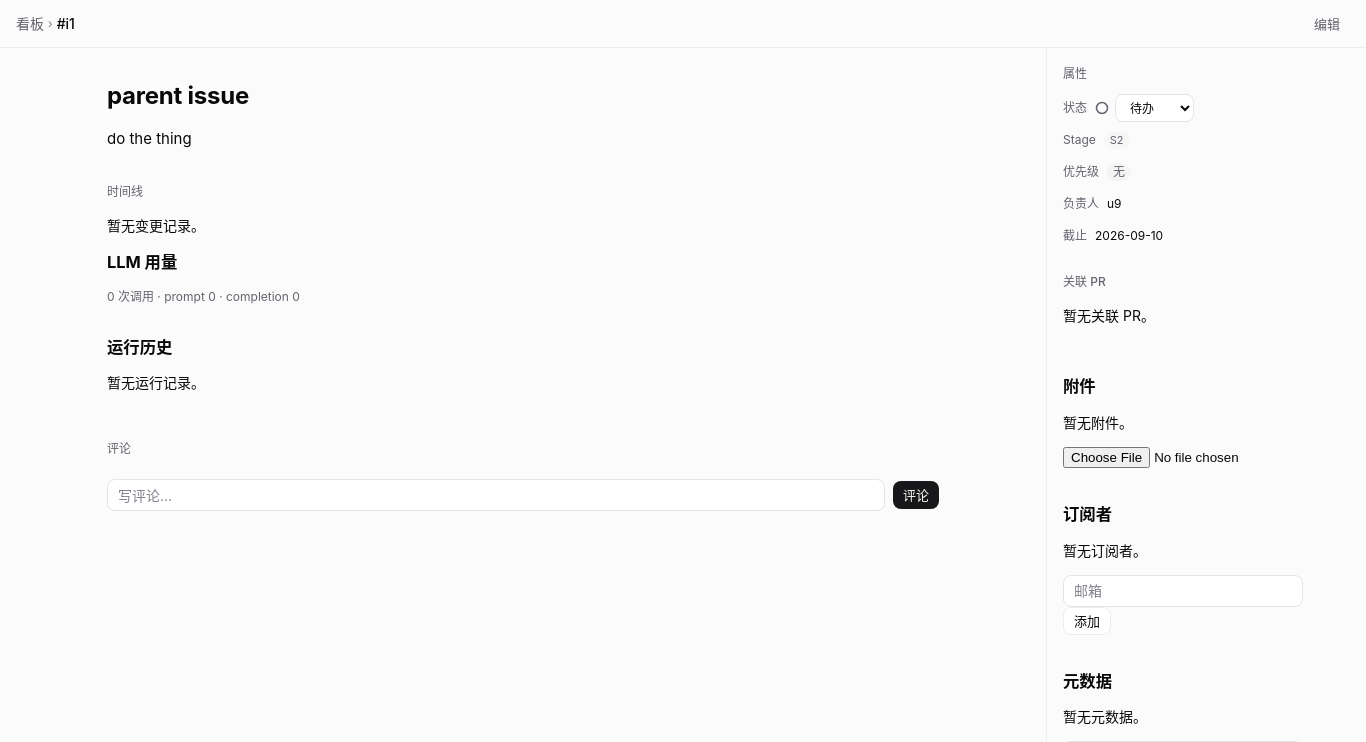
Test: IssueDetailPage › edits the issue description
Click the button with test id "edit-issue" at (1327, 24), box [1304,10,1350,38]
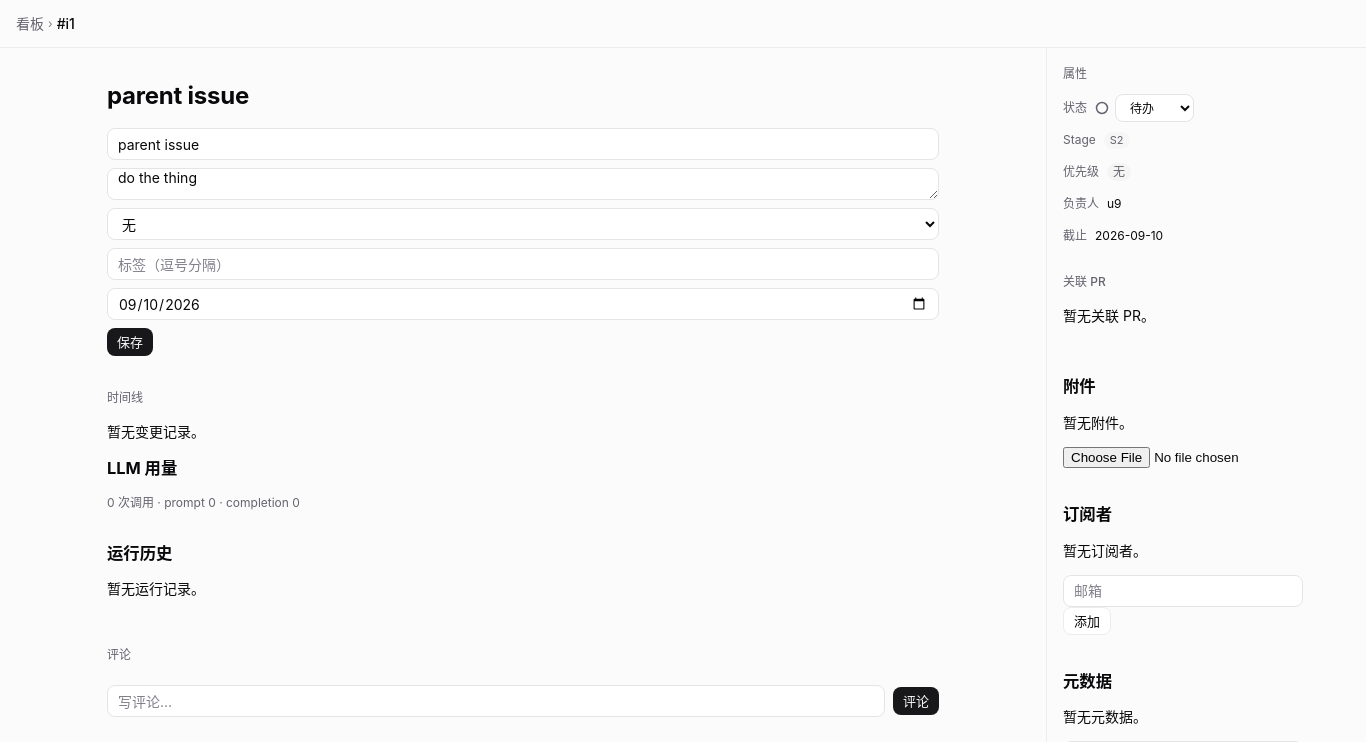
Type " appended" into the text box with test id "edit-description" at (523, 184), box [107,168,939,200]
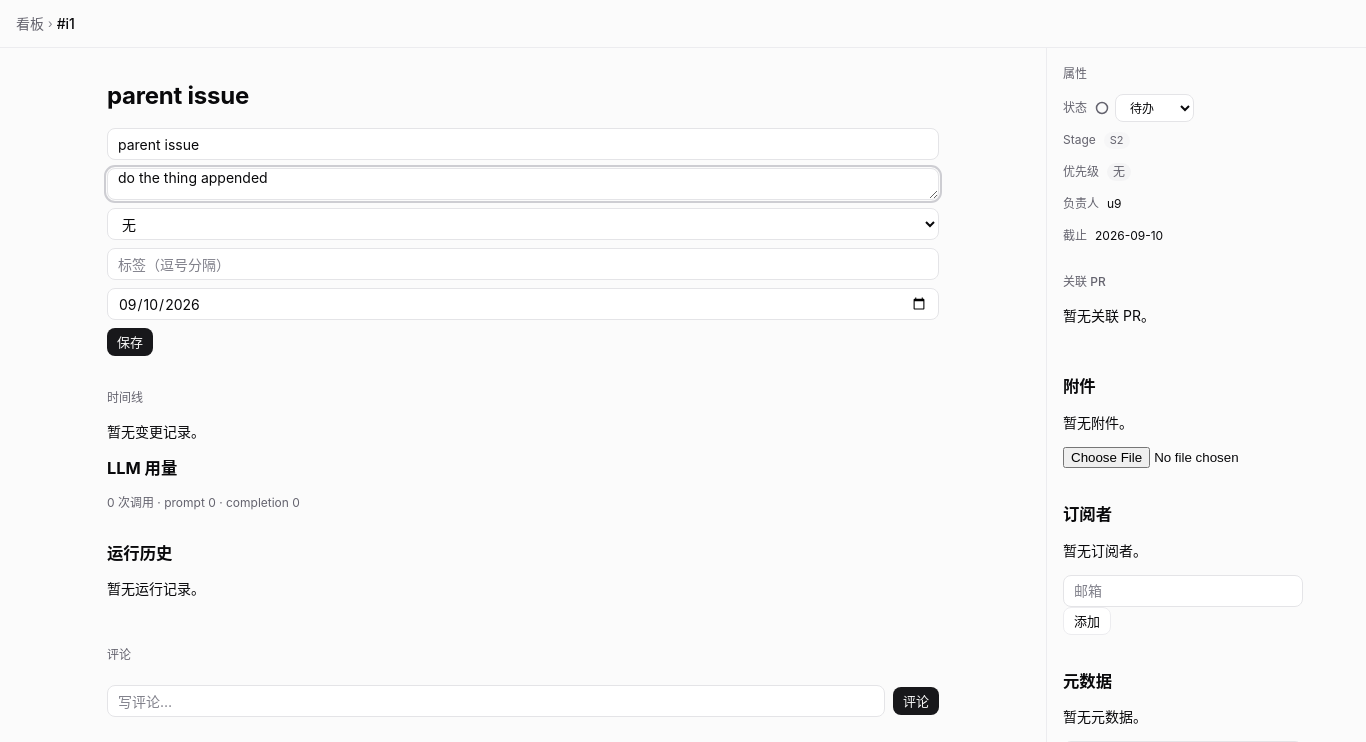
Click the button with test id "save-issue" at (130, 342), box [107,328,153,356]
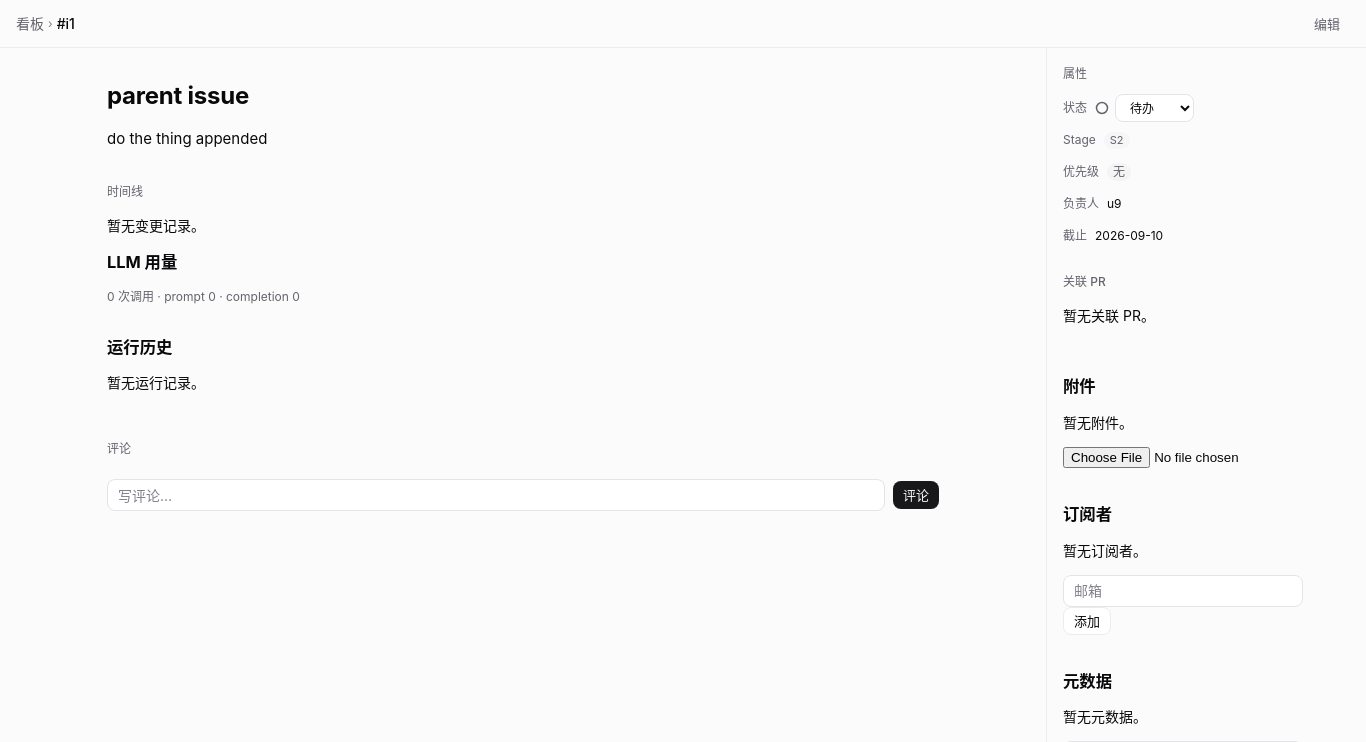
expect the text "do the thing appended" is shown: met, box [107,129,267,148]
